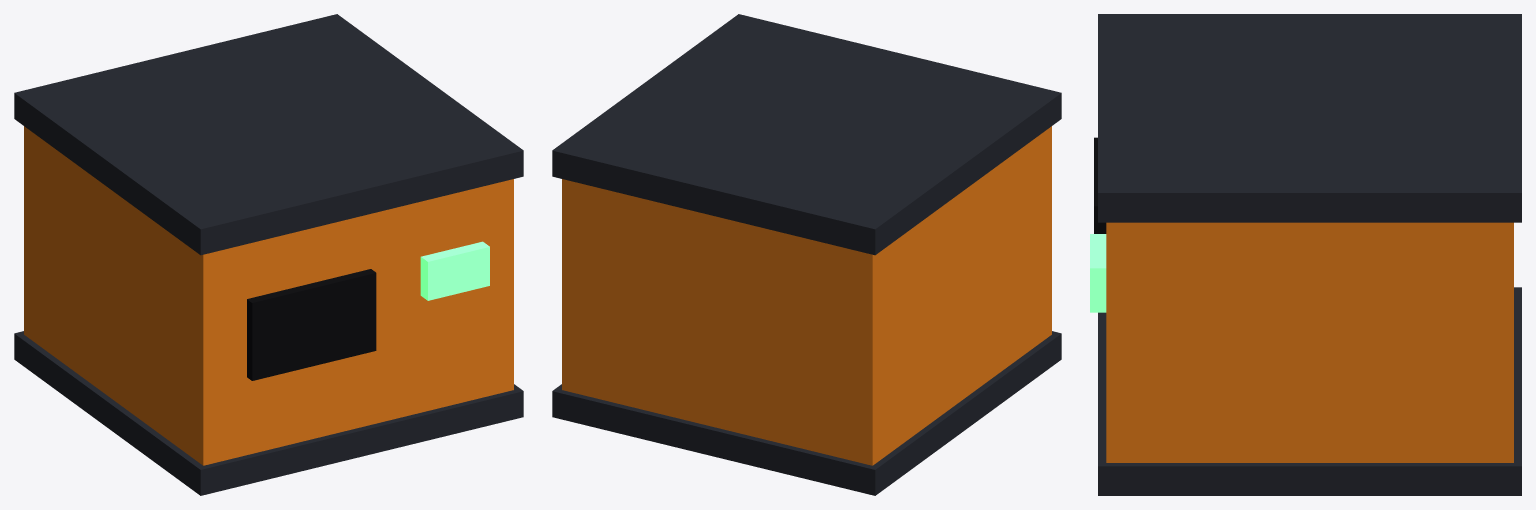
Rendered from crate_small.glb.
The picture shows the model from 3 angles, left to right: view 1: azimuth 30°, elevation 25°; view 2: azimuth 150°, elevation 25°; view 3: azimuth 270°, elevation 25°; orthographic projection. The views are drawn at different scales.
Visible parts, largest first — view 1: crate_small; view 2: crate_small; view 3: crate_small.
Boxes of the visible parts, <box> form: crate_small: <box>14,14,523,495</box>; crate_small: <box>552,14,1061,495</box>; crate_small: <box>1090,14,1521,495</box>.
Bounding box in the file's own units: 0.52 × 0.41 × 0.53.
